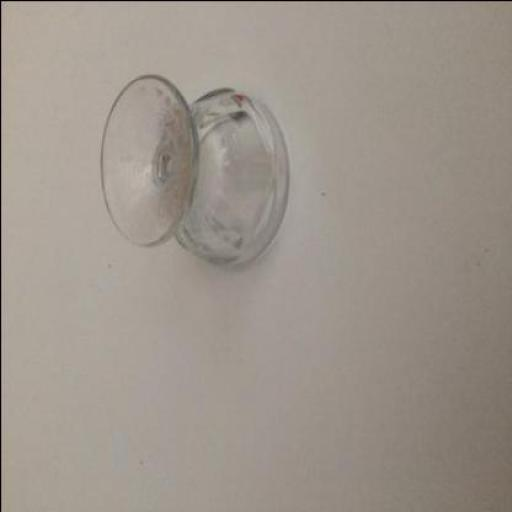glass: (99, 73, 286, 269)
